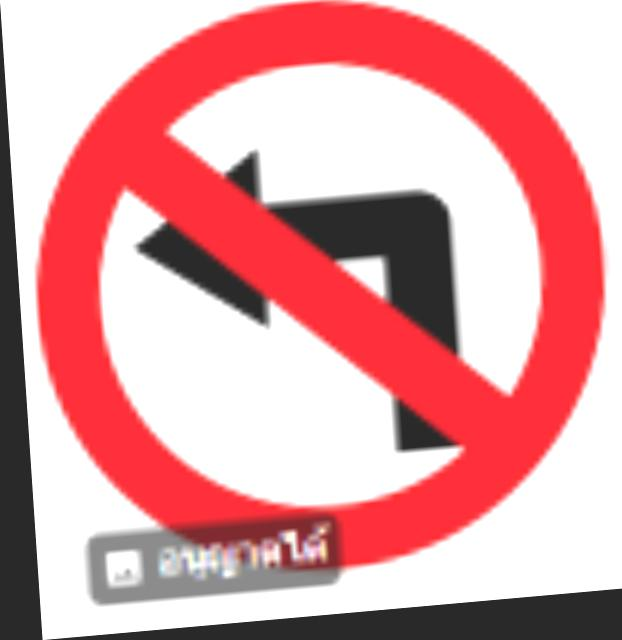not_turn_left: (36, 0, 621, 608)
